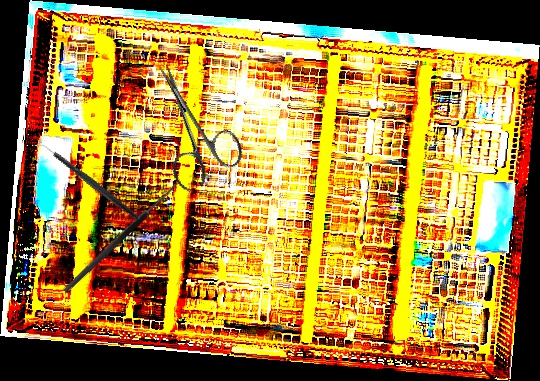Chopper: (32, 117, 141, 247)
Hook Surgical: (57, 172, 182, 295)
Iris Scissors: (129, 50, 249, 195)
